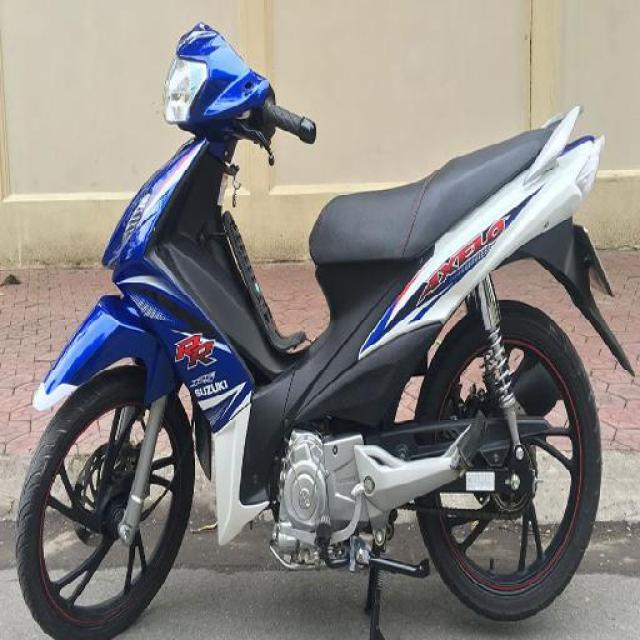All: (9, 12, 635, 640)
Head: (157, 21, 319, 166)
Tail: (513, 107, 612, 210)
